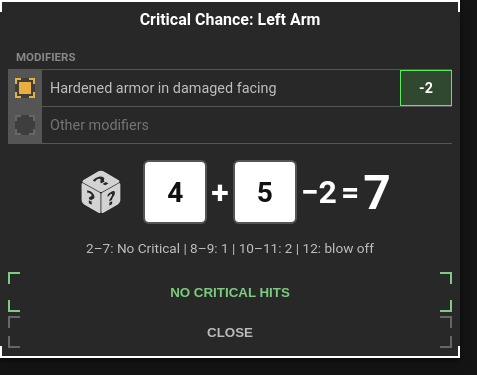
Test: MekCriticalChanceDialogComponent optional modifiers › keeps the optional checkbox and applied modifier synchronized after a roll
Click the checkbox labelled "Hardened armor in damaged facing" at [25, 88], box top-left (15, 78), bottom-right (35, 98)
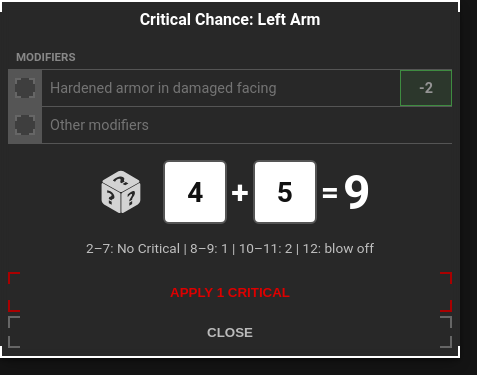
Expected: the checkbox labelled "Hardened armor in damaged facing" is not checked, top-left (15, 78), bottom-right (35, 98)
Expected: the text "−2" is gone
